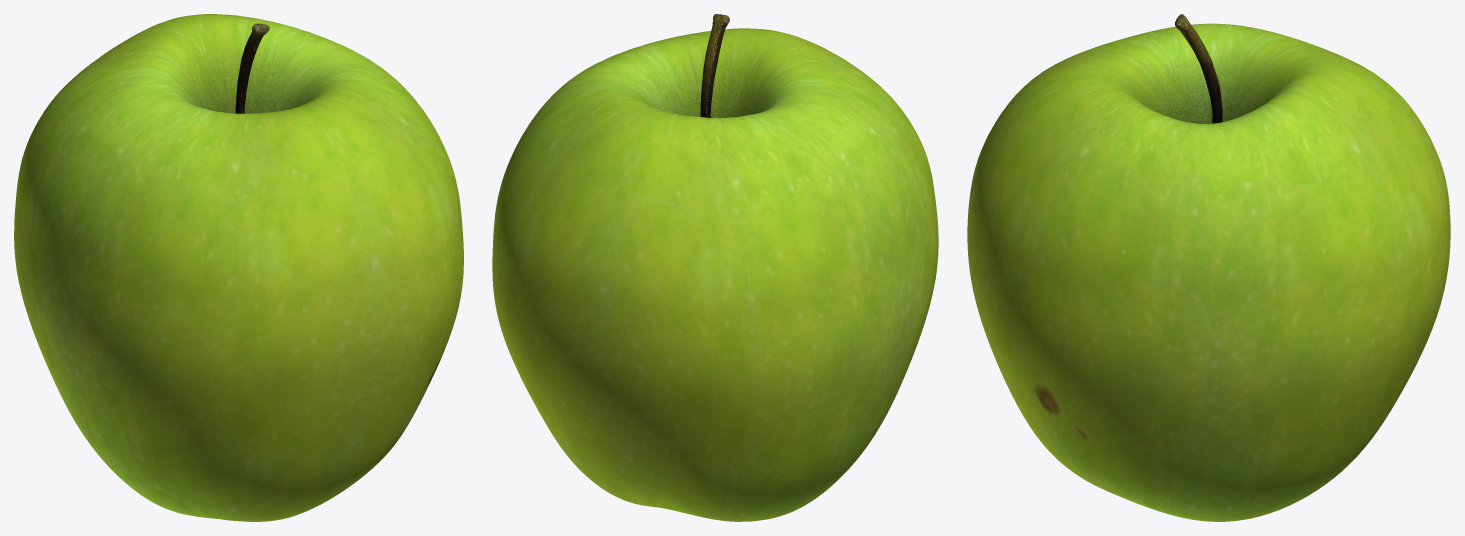
Rendered from apple_tex.dae.
The picture shows the model from 3 angles, left to right: view 1: azimuth 30°, elevation 25°; view 2: azimuth 150°, elevation 25°; view 3: azimuth 270°, elevation 25°; orthographic projection. The views are drawn at different scales.
Visible parts, largest first — view 1: apple, peduncle; view 2: apple, peduncle; view 3: apple, peduncle.
Part boxes in pixels (left/top/right/bottom): apple: left=14, top=14, right=463, bottom=521; peduncle: left=235, top=23, right=269, bottom=113; apple: left=492, top=28, right=938, bottom=521; peduncle: left=700, top=14, right=729, bottom=117; apple: left=967, top=23, right=1450, bottom=521; peduncle: left=1175, top=14, right=1222, bottom=123.
Bounding box in the file's own units: 149 × 182 × 166.
3 materials, 3 textured.
